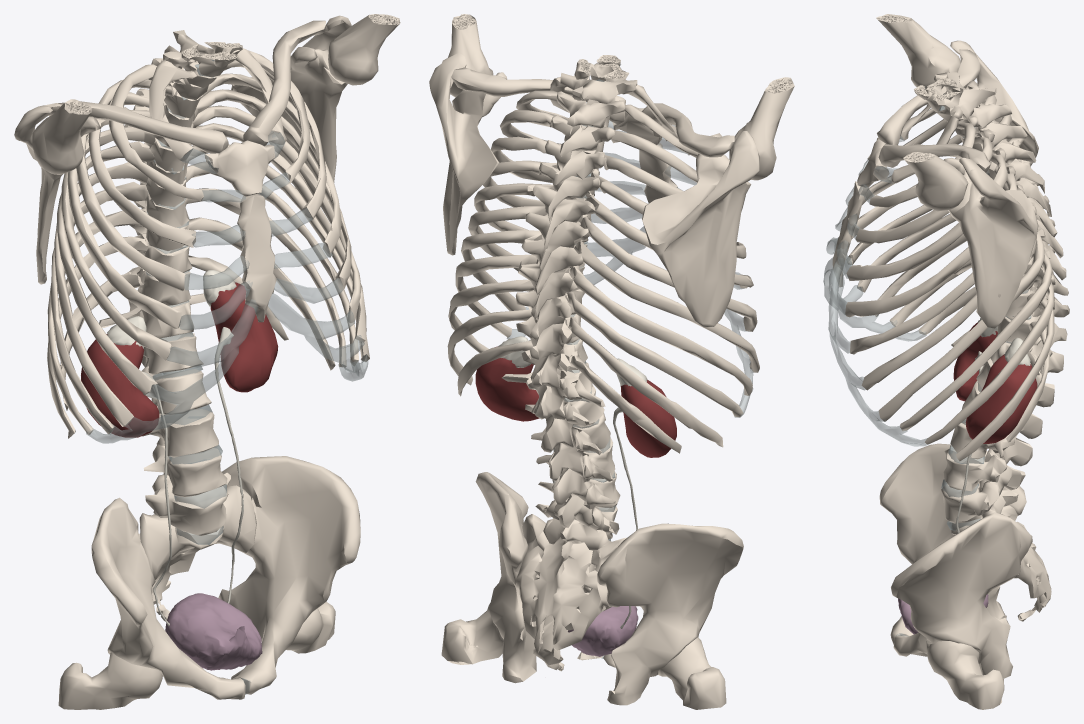
The model's file is urinary.glb.
3 views of the same model, side by side, from view 1: azimuth 30°, elevation 25°; view 2: azimuth 150°, elevation 25°; view 3: azimuth 270°, elevation 25° (orthographic). The views are drawn at different scales.
Parts seen in each view (by area): view 1: Botjes, Costal_cartilages, blaas, Rechternier, Rechternier1, Vertebral_discs, Skin_ZSphere2, PM3D_Sphere3D1_3; view 2: Botjes, Costal_cartilages, Rechternier, Rechternier1, blaas; view 3: Botjes, Costal_cartilages, Rechternier, Rechternier1, Vertebral_discs.
Part boxes in pixels (<box>): Botjes: <box>14,14,400,709</box>; Costal_cartilages: <box>86,131,368,694</box>; blaas: <box>165,593,262,670</box>; Rechternier: <box>210,282,278,392</box>; Rechternier1: <box>81,334,159,437</box>; Vertebral_discs: <box>146,59,226,544</box>; Skin_ZSphere2: <box>142,327,243,626</box>; PM3D_Sphere3D1_3: <box>203,270,236,306</box>; Botjes: <box>429,14,794,709</box>; Costal_cartilages: <box>507,120,753,658</box>; Rechternier: <box>475,346,539,421</box>; Rechternier1: <box>621,380,676,457</box>; blaas: <box>568,606,638,656</box>; Botjes: <box>832,14,1069,709</box>; Costal_cartilages: <box>823,136,929,636</box>; Rechternier: <box>965,354,1037,443</box>; Rechternier1: <box>953,322,998,401</box>; Vertebral_discs: <box>925,86,1031,530</box>.
Bounding box in the file's own units: 393 × 677 × 269.
